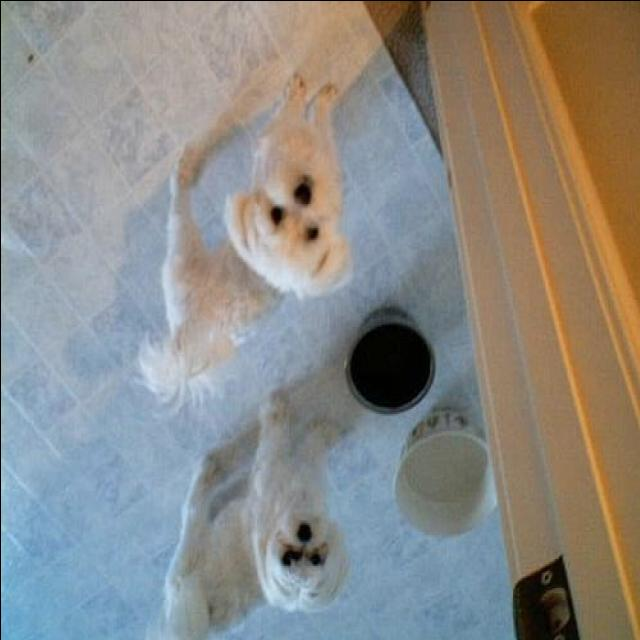maltese_dog: (134, 72, 354, 420), (162, 392, 350, 638)
